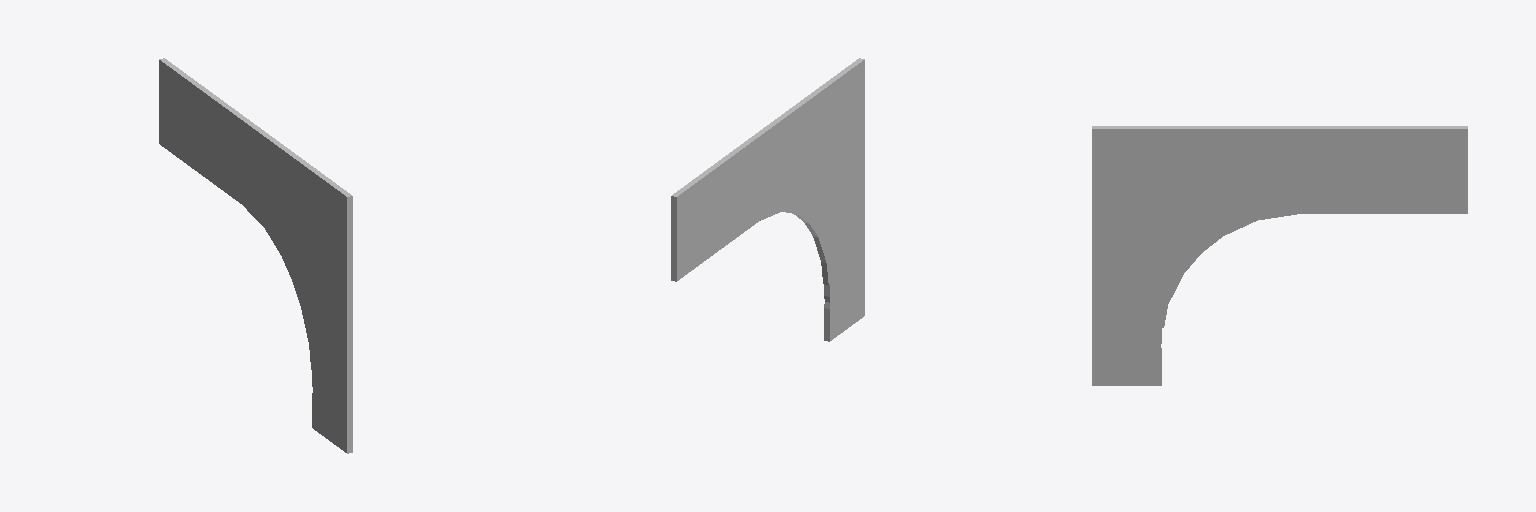
File: office_desk.obj
3 views of the same model, side by side, from view 1: azimuth 30°, elevation 25°; view 2: azimuth 150°, elevation 25°; view 3: azimuth 270°, elevation 25° (orthographic).
Parts seen in each view (by area): view 1: Main1; view 2: Main1; view 3: Main1.
Part boxes in pixels (x1,y1,x2,y2): Main1: (159, 58, 352, 453); Main1: (671, 58, 864, 341); Main1: (1092, 126, 1467, 385).
Bounding box in the file's own units: 0.16 × 7.06 × 9.38.